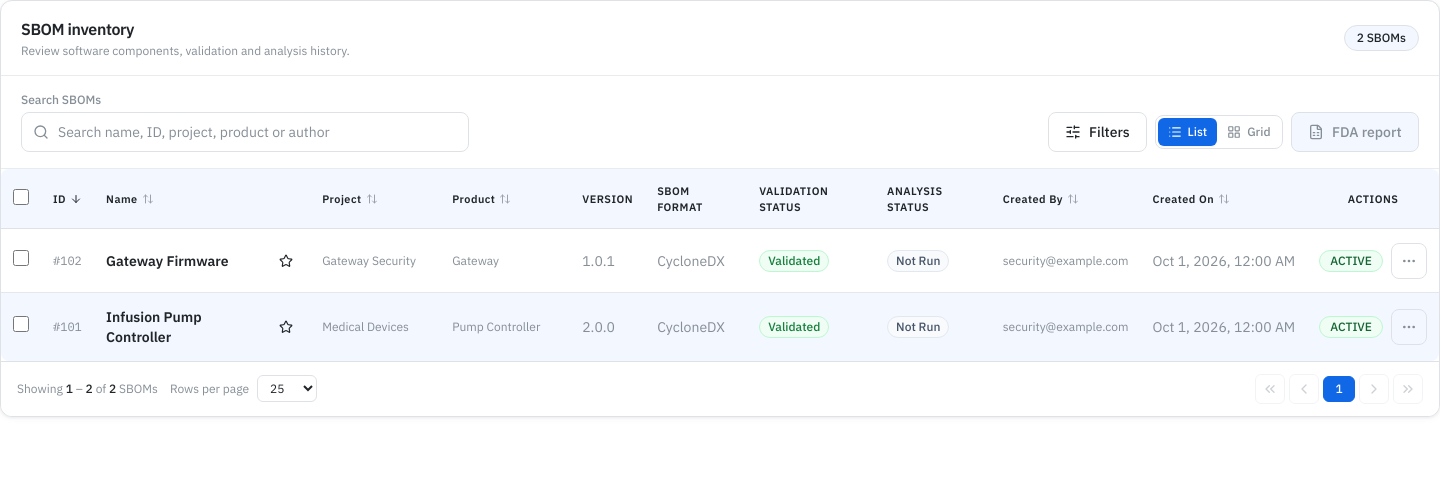
Test case: SBOM inventory redesign regression › keeps selected rows and explains why mixed-project FDA exports are disabled
Click the checkbox named "Select Infusion Pump Controller".
click(21, 324)  # box [13,316,29,332]
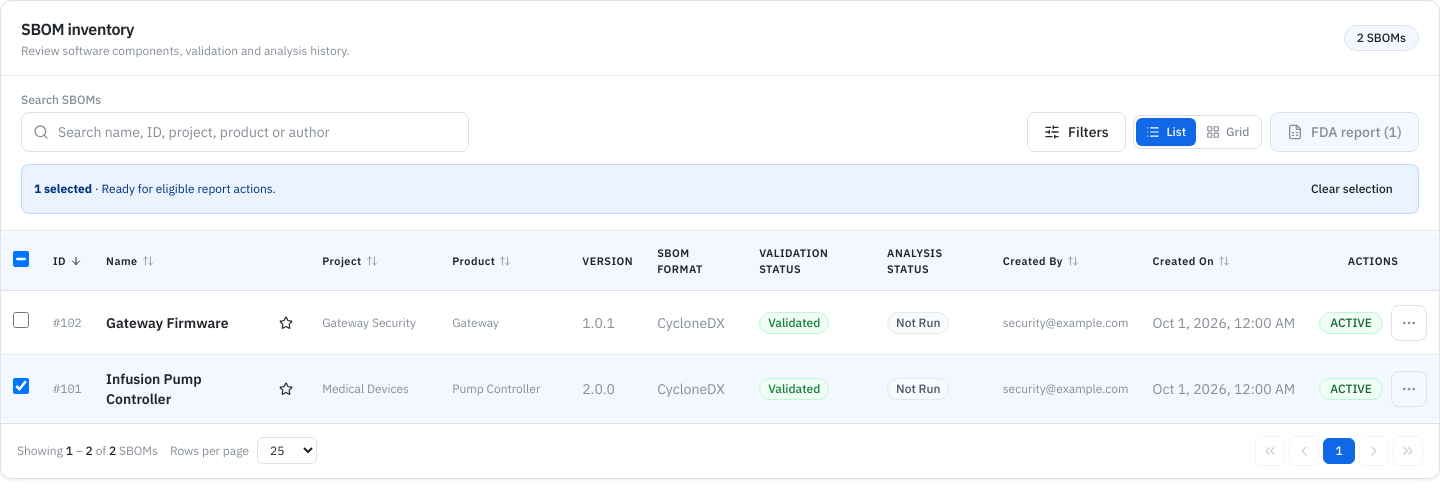
Click the checkbox named "Select Gateway Firmware".
click(21, 320)  # box [13,312,29,328]
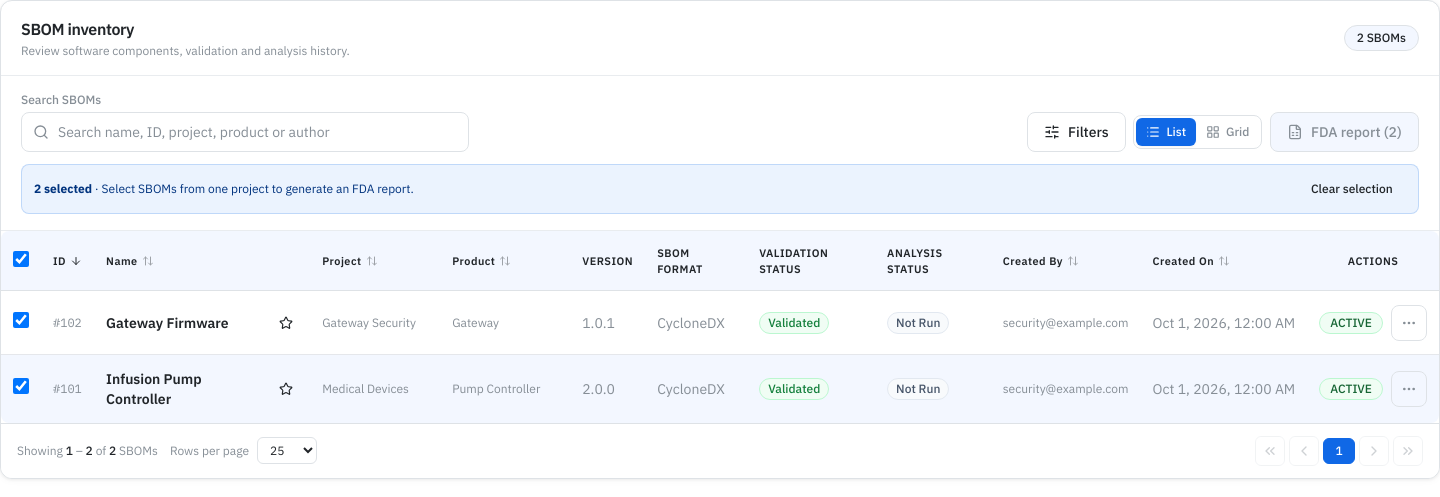
Result: the text "2 selected" is shown at [34,181,92,196]
Result: the text "Select SBOMs from one project to generate an FDA report" is shown at [92,181,414,196]
Click the button "Clear selection".
click(1352, 189)  # box [1298,173,1406,205]
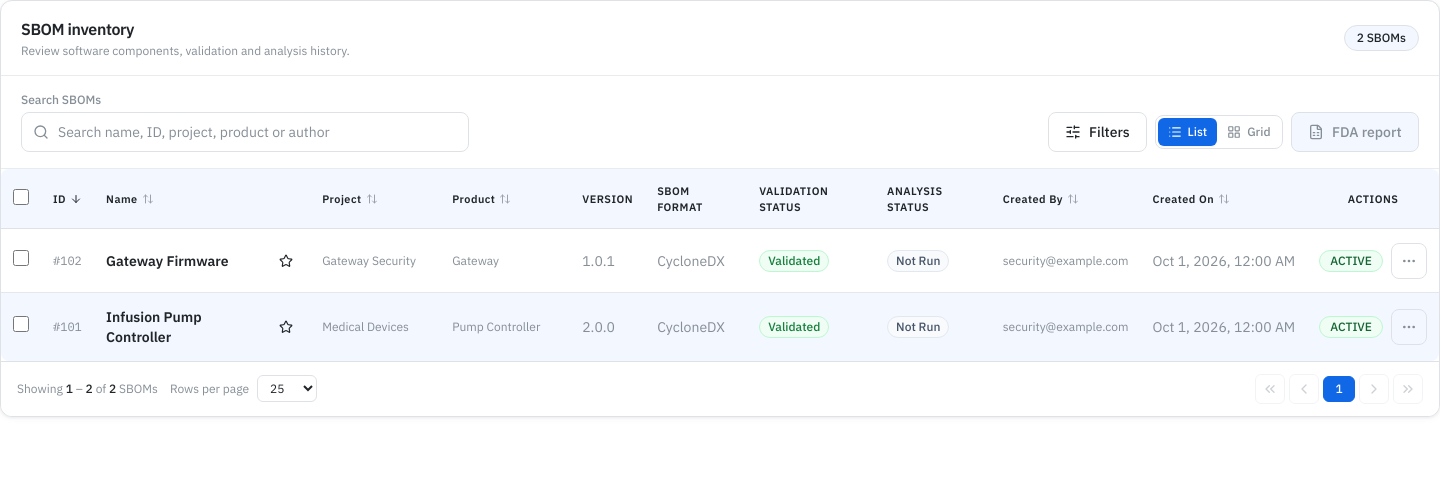
Result: the text "2 selected" is gone
